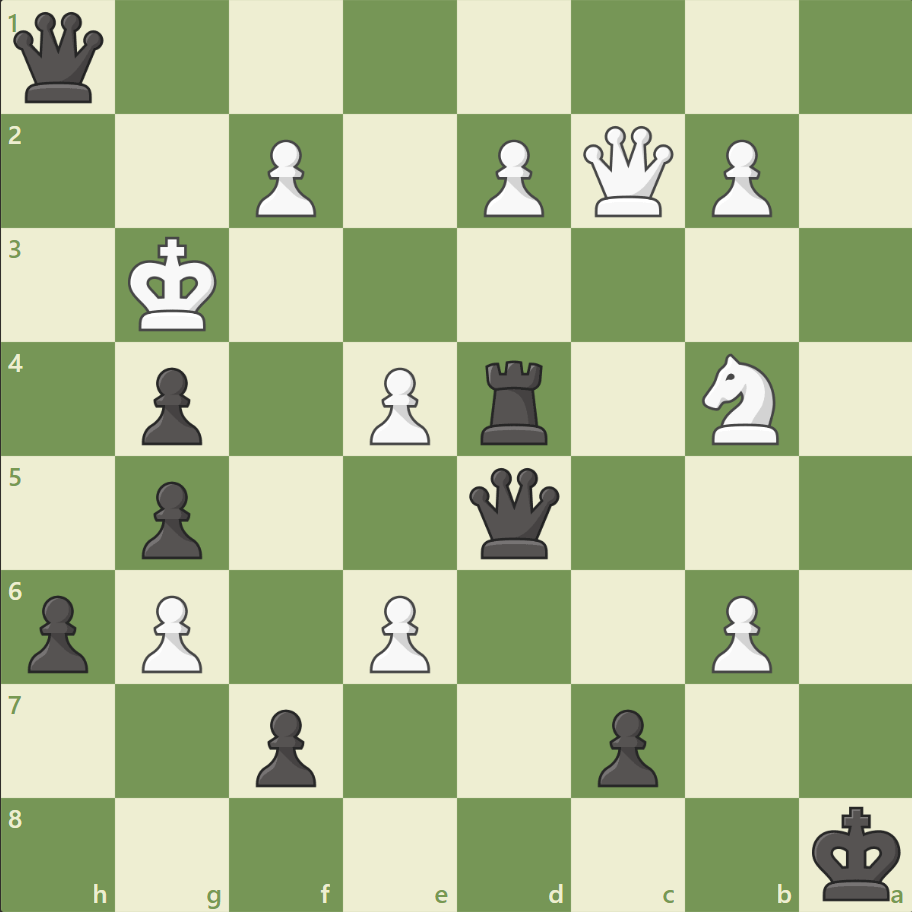K: (124, 231, 224, 339)
N: (692, 348, 789, 450)
P: (701, 586, 776, 677), (133, 586, 208, 677), (701, 132, 776, 223), (474, 132, 549, 223), (247, 132, 322, 223), (361, 586, 435, 677), (361, 359, 435, 450)
Q: (578, 122, 677, 222)
k: (806, 798, 906, 906)
p: (247, 700, 322, 791), (20, 586, 95, 677), (133, 473, 208, 564), (133, 359, 208, 450), (588, 700, 662, 791)
q: (464, 463, 563, 562), (10, 9, 109, 108)
r: (473, 352, 556, 449)
